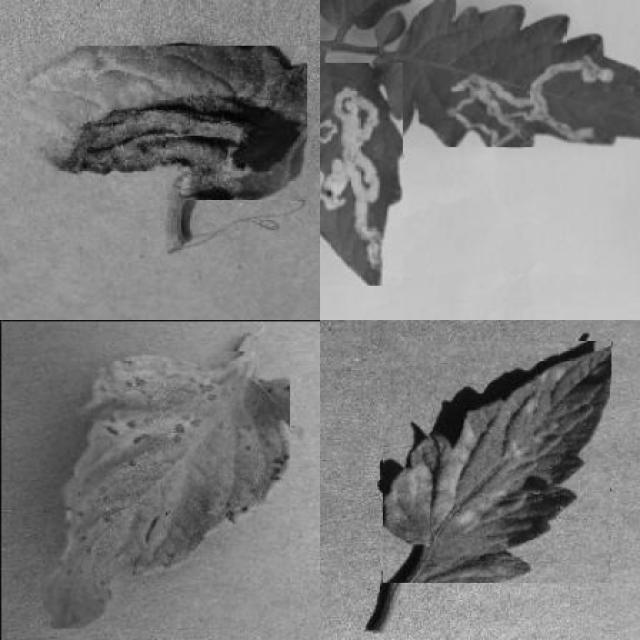Late Blight: (22, 46, 307, 200)
Leaf Miner: (380, 0, 640, 147), (320, 64, 403, 286)
Leaf Mold: (383, 340, 611, 583)
Septoria: (43, 352, 290, 628)
